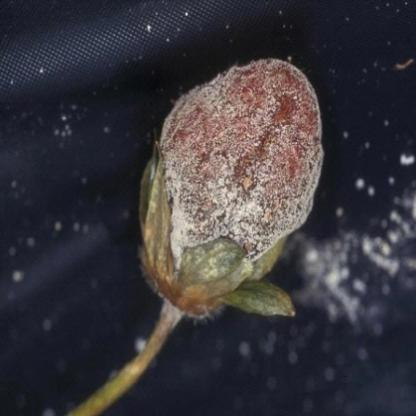Strawberry_Gray_Mold: (136, 57, 326, 316)
